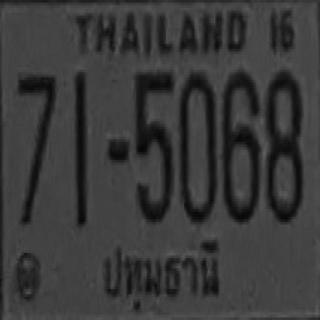N00: (178, 70, 218, 224)
N01: (73, 71, 85, 226)
N05: (134, 68, 174, 224)
N06: (220, 68, 261, 225)
N07: (16, 72, 58, 227)
N08: (265, 67, 305, 223)
P38: (97, 233, 227, 312)
